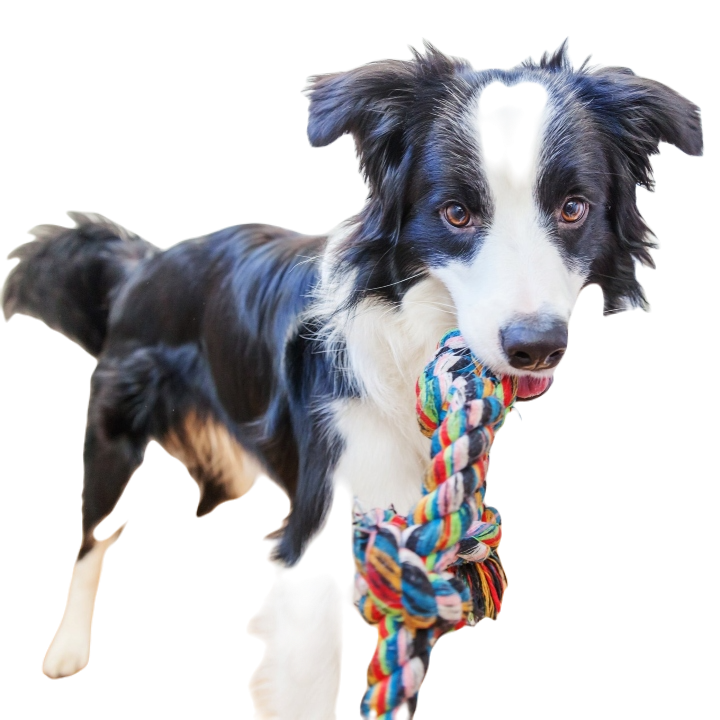Dog: (3, 41, 704, 712)
